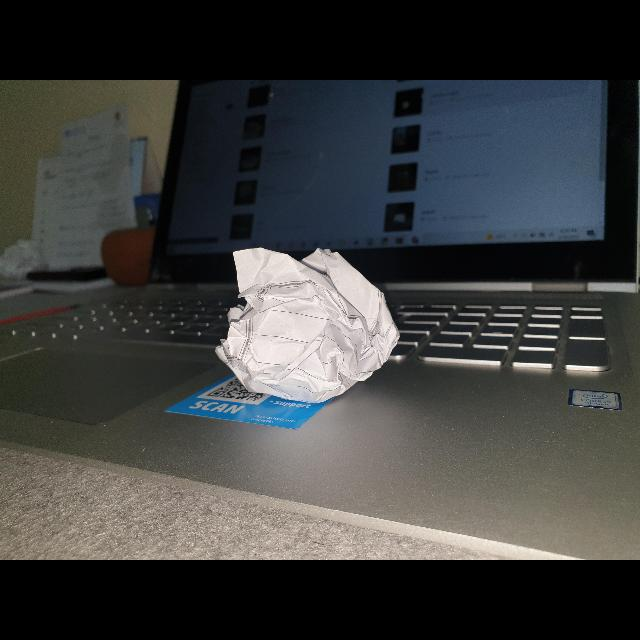scrap_paper: (203, 234, 409, 414)
